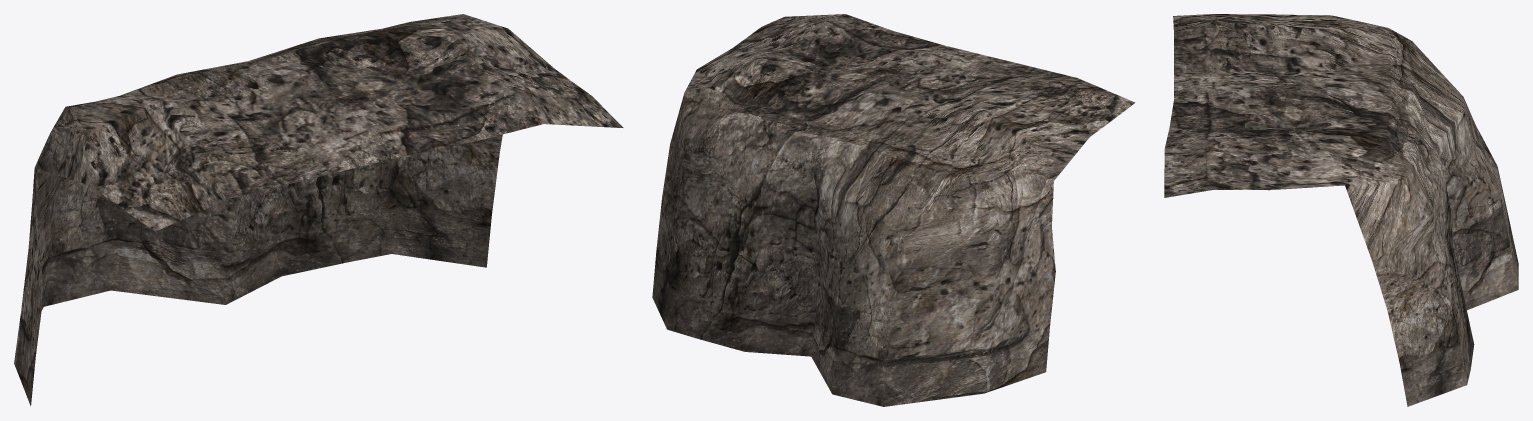
Rendered from Ext_Rock_01.FBX.
The picture shows the model from 3 angles, left to right: view 1: azimuth 30°, elevation 25°; view 2: azimuth 150°, elevation 25°; view 3: azimuth 270°, elevation 25°; orthographic projection. The views are drawn at different scales.
Visible parts, largest first — view 1: Ext_Rock_01; view 2: Ext_Rock_01; view 3: Ext_Rock_01.
Boxes of the visible parts, <box> form: Ext_Rock_01: <box>14,14,623,406</box>; Ext_Rock_01: <box>652,14,1135,406</box>; Ext_Rock_01: <box>1164,14,1518,406</box>.
Size of the model in its own units: 8619 by 4998 by 6896.
